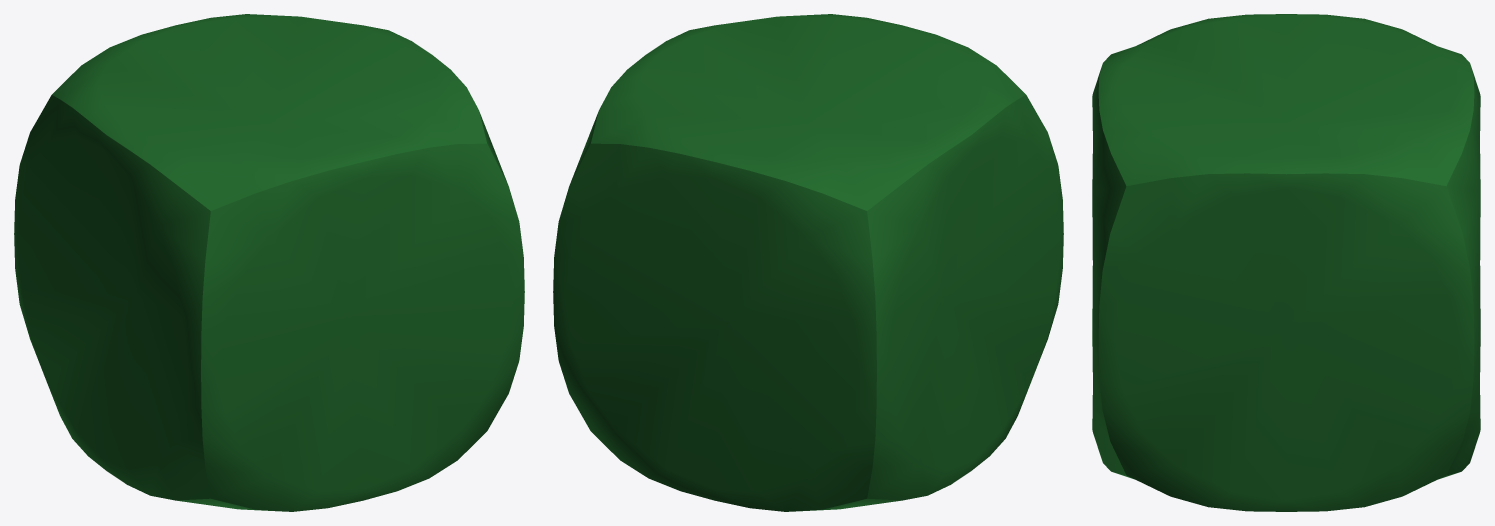
The model's file is obj_resource_emerald.fbx.
3 views of the same model, side by side, from view 1: azimuth 30°, elevation 25°; view 2: azimuth 150°, elevation 25°; view 3: azimuth 270°, elevation 25° (orthographic).
Parts seen in each view (by area): view 1: obj_resource_emerald.001; view 2: obj_resource_emerald.001; view 3: obj_resource_emerald.001.
Part boxes in pixels (<box>): obj_resource_emerald.001: <box>14,14,524,511</box>; obj_resource_emerald.001: <box>553,14,1063,511</box>; obj_resource_emerald.001: <box>1092,14,1480,511</box>.
Bounding box in the file's own units: 3.03 × 3.03 × 3.03.
